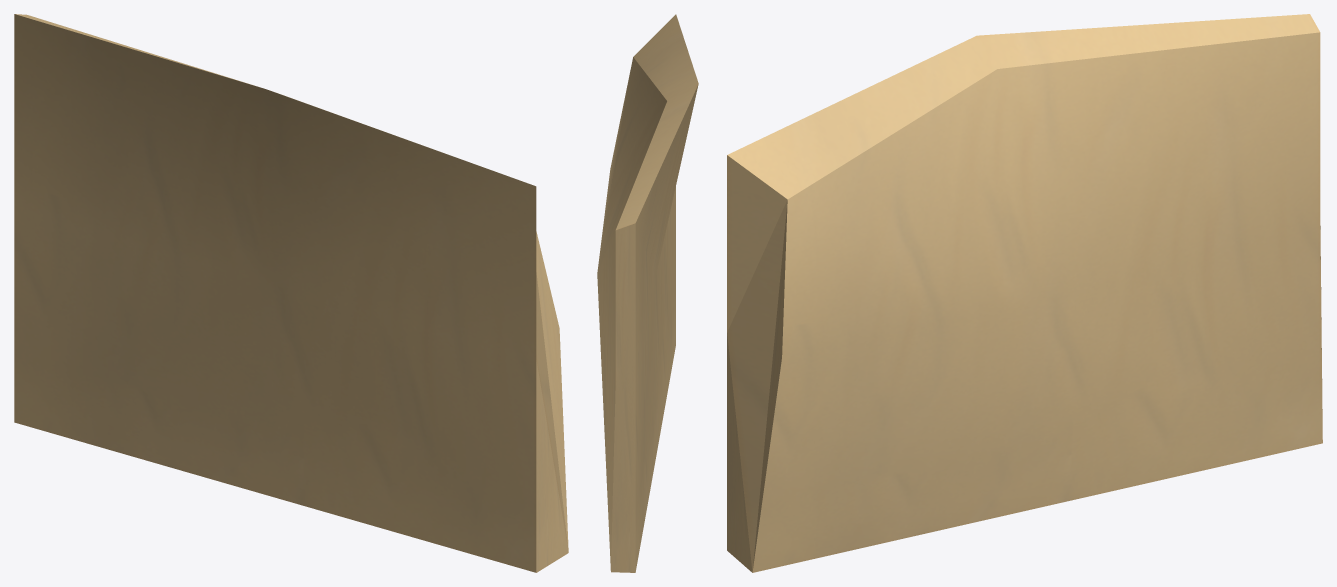
Rendered from WallC.FBX.
3 views of the same model, side by side, from view 1: azimuth 30°, elevation 25°; view 2: azimuth 150°, elevation 25°; view 3: azimuth 270°, elevation 25° (orthographic). The views are drawn at different scales.
Visible parts, largest first — view 1: WallC; view 2: WallC; view 3: WallC.
Part boxes in pixels (<box>): WallC: <box>14,14,568,572</box>; WallC: <box>597,14,698,572</box>; WallC: <box>727,14,1322,572</box>.
Bounding box in the file's own units: 14.13 × 24.77 × 20.23.
Materials: 1 (1 with a texture image).
